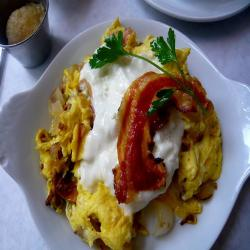omelette: (46, 46, 217, 248)
